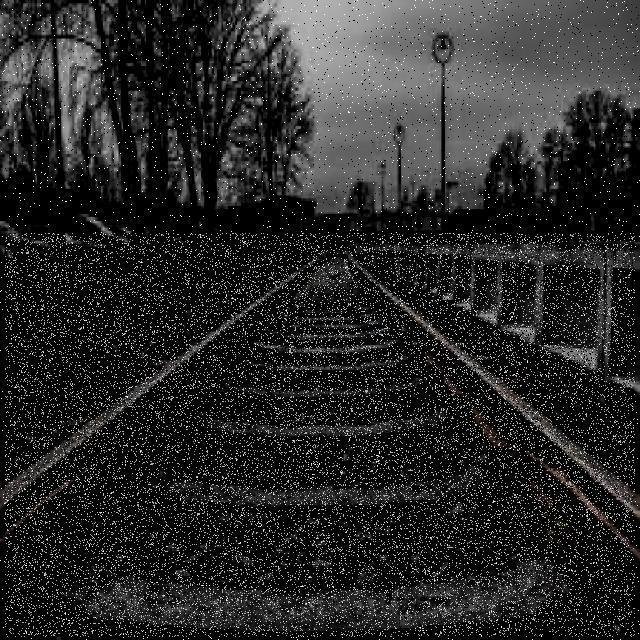rail: (7, 235, 636, 638)
